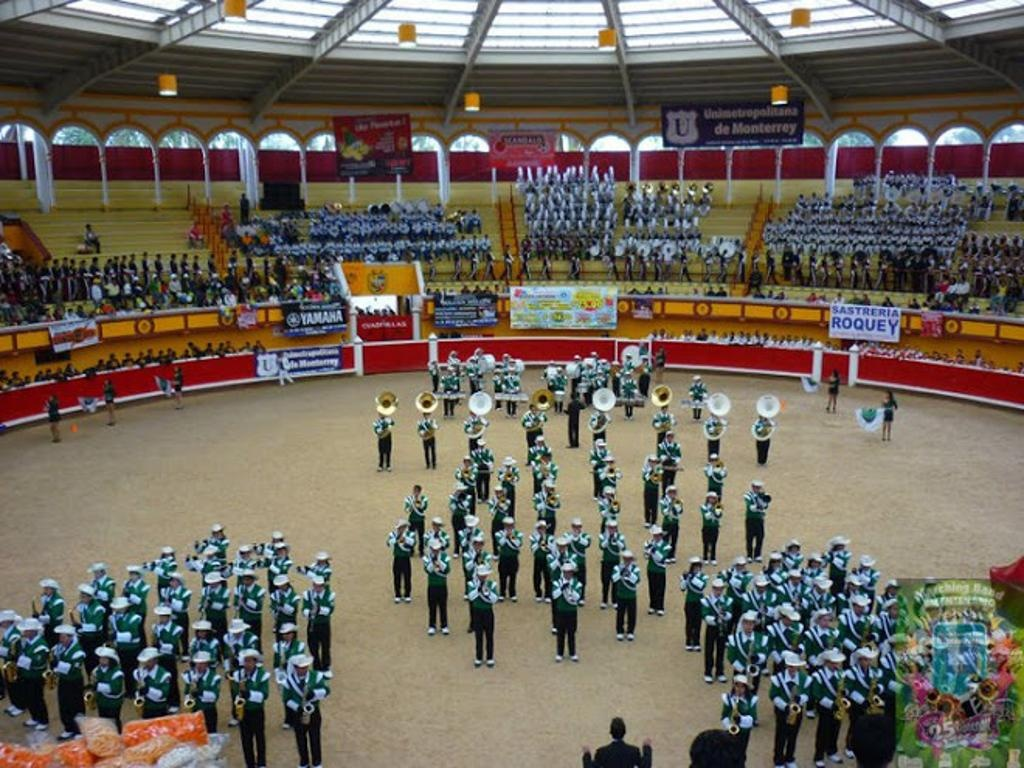human_face: (242, 576, 252, 586), (244, 656, 254, 666), (296, 664, 306, 674), (22, 627, 32, 637), (743, 621, 753, 631), (783, 615, 793, 625), (735, 682, 745, 692), (60, 632, 68, 644), (0, 618, 9, 628), (82, 594, 90, 604), (197, 630, 207, 638), (314, 583, 322, 593), (195, 662, 205, 670), (820, 616, 828, 626), (170, 576, 176, 588), (100, 656, 108, 664), (278, 547, 286, 555), (504, 522, 512, 530), (757, 585, 765, 593), (888, 606, 896, 614), (789, 544, 797, 552), (772, 558, 780, 566), (42, 586, 50, 594), (116, 606, 124, 614), (564, 570, 572, 578), (283, 632, 293, 638), (278, 584, 288, 590), (604, 490, 610, 500), (854, 604, 860, 614), (495, 490, 503, 497), (94, 568, 100, 576), (130, 571, 136, 579), (242, 550, 248, 558), (214, 530, 222, 536), (574, 525, 580, 533), (543, 455, 549, 463), (711, 458, 717, 466), (531, 406, 537, 414), (752, 486, 760, 492), (714, 587, 722, 593), (737, 562, 743, 570), (888, 586, 896, 592), (816, 586, 824, 592), (792, 576, 800, 582), (812, 560, 820, 566), (830, 662, 838, 668), (862, 657, 868, 665), (790, 666, 798, 672), (160, 615, 166, 621), (146, 661, 152, 667), (234, 632, 240, 638), (434, 522, 440, 528), (475, 542, 481, 548), (433, 548, 439, 554), (539, 526, 545, 532), (654, 532, 660, 538), (538, 440, 544, 446), (464, 458, 470, 464), (509, 360, 515, 366), (502, 355, 508, 361), (694, 564, 700, 570), (163, 553, 169, 559), (318, 558, 326, 562), (478, 576, 486, 580), (608, 524, 612, 532), (835, 544, 843, 548), (210, 582, 216, 586), (399, 525, 405, 529), (505, 463, 511, 467), (560, 544, 566, 548), (624, 557, 628, 563), (708, 496, 714, 500), (666, 434, 670, 440), (626, 374, 630, 380), (508, 370, 514, 374), (450, 352, 456, 356), (447, 368, 451, 374), (852, 583, 858, 587), (830, 370, 834, 376), (48, 395, 52, 401), (104, 378, 108, 384), (670, 491, 674, 496), (886, 392, 890, 397), (414, 490, 418, 494), (424, 414, 428, 418), (547, 486, 551, 490), (650, 460, 654, 464), (661, 407, 665, 411), (586, 365, 590, 369), (592, 355, 596, 359), (658, 348, 662, 352), (695, 378, 699, 382), (476, 350, 480, 354), (470, 358, 474, 362), (600, 362, 604, 364), (612, 364, 616, 366), (174, 367, 176, 371), (598, 372, 600, 374), (627, 356, 629, 358), (642, 358, 644, 360)
